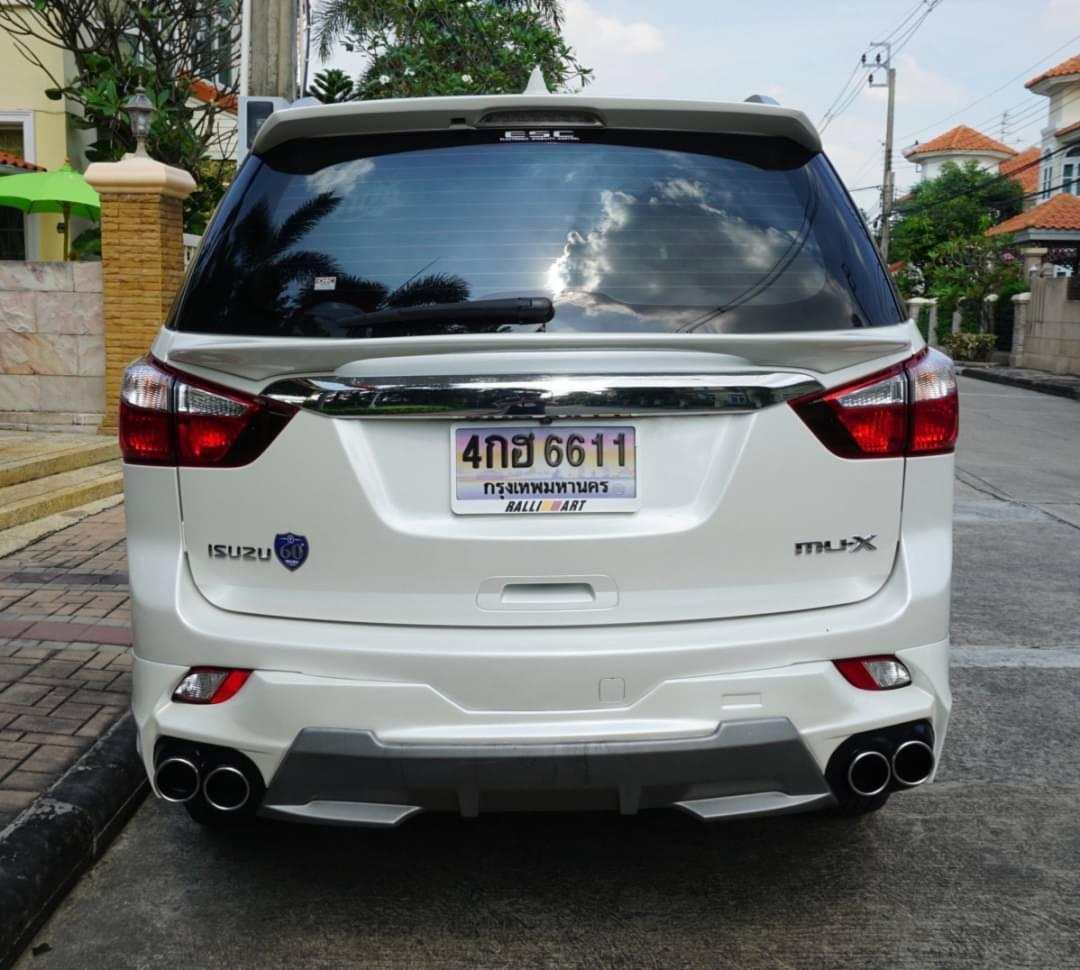license-plate: (449, 418, 642, 515)
